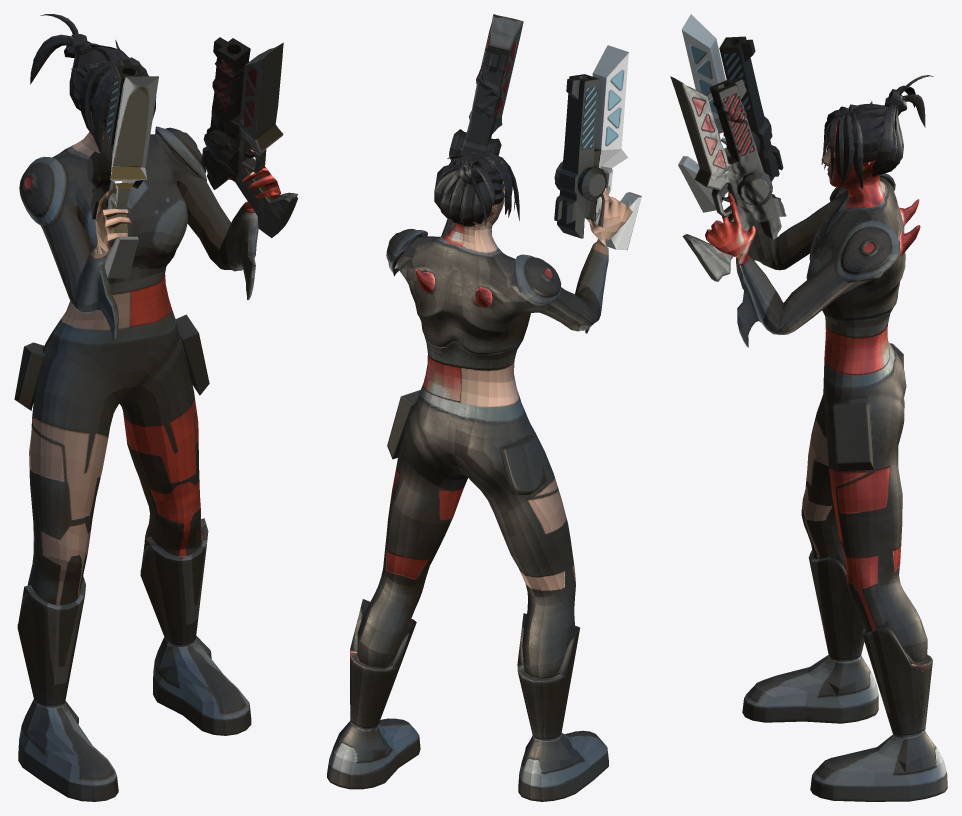
The picture shows the model from 3 angles, left to right: view 1: azimuth 30°, elevation 25°; view 2: azimuth 150°, elevation 25°; view 3: azimuth 270°, elevation 25°; orthographic projection. The views are drawn at different scales.
Visible parts, largest first — view 1: Dex_LOW_Plane.001; view 2: Dex_LOW_Plane.001; view 3: Dex_LOW_Plane.001.
Boxes of the visible parts, bbox=[...] form: Dex_LOW_Plane.001: bbox=[14, 14, 298, 801]; Dex_LOW_Plane.001: bbox=[327, 14, 641, 801]; Dex_LOW_Plane.001: bbox=[670, 14, 947, 801].
Size of the model in its own units: 1.63 by 5.08 by 1.83.
